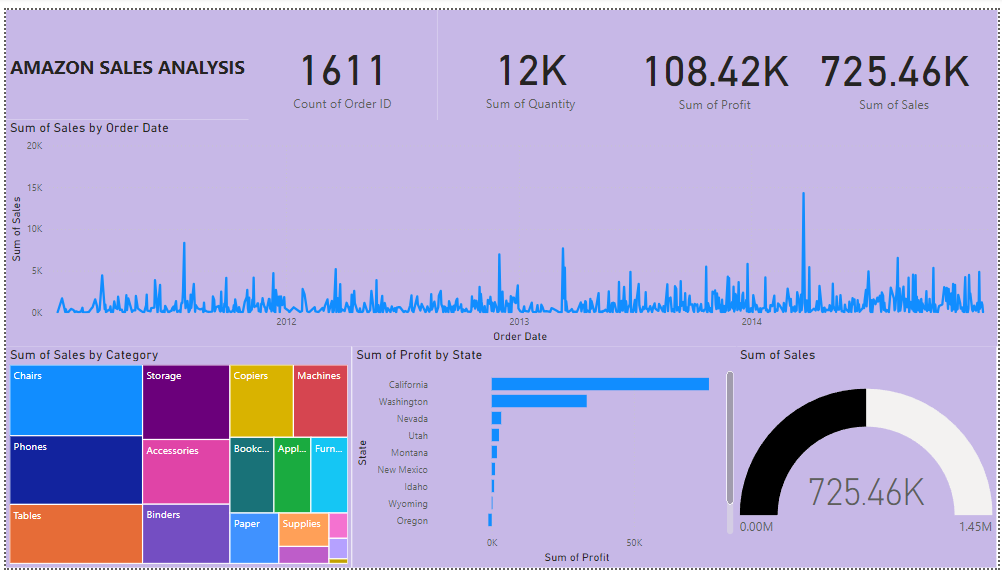

The page's visual inventory and layout, read from the dashboard file:
{"tool":"powerbi","page":{"name":"Page 1","canvas":[1280,720],"ordinal":0},"visuals":[{"type":"card","fields":{"Values":["Sum(Walmart.Sales)"]},"box":[1013.3,0,266.7,165],"z":0},{"type":"card","fields":{"Values":["Sum(Walmart.Profit)"]},"box":[781.7,0,265,165],"z":1000},{"type":"card","fields":{"Values":["Sum(Walmart.Quantity)"]},"box":[555.7,0,241.5,164.7],"z":2000},{"type":"card","fields":{"Values":["Count(Walmart.Order ID)"]},"box":[312.9,0,242.9,164.7],"z":3000},{"type":"lineChart","fields":{"Category":["Walmart.Order Date"],"Y":["Sum(Walmart.Sales)"]},"box":[0,141.3,1278.9,292.3],"z":4000},{"type":"treemap","fields":{"Group":["Walmart.Category"],"Values":["Sum(Walmart.Sales)"]},"box":[0,433.6,446,285.4],"z":5000},{"type":"clusteredBarChart","fields":{"Category":["Walmart.State"],"Y":["Sum(Walmart.Profit)"]},"box":[446,433.6,496.7,285.4],"z":6000},{"type":"gauge","fields":{"Y":["Sum(Walmart.Sales)"]},"box":[942.7,433.6,336.2,285.4],"z":7000},{"type":"textbox","box":[0,0,333.4,141.3],"z":8000}]}

Visuals, with their boxes in screenshot pixels (x1, y1, x2, y2), scaled from the page's 1280x720 canvas onto the 1002x576 screenshot:
card - Sum(Walmart.Sales): crop(793, 0, 1001, 132)
card - Sum(Walmart.Profit): crop(612, 0, 819, 132)
card - Sum(Walmart.Quantity): crop(435, 0, 624, 132)
card - Count(Walmart.Order ID): crop(245, 0, 435, 132)
lineChart - Walmart.Order Date x Sum(Walmart.Sales): crop(0, 113, 1001, 347)
treemap - Walmart.Category x Sum(Walmart.Sales): crop(0, 347, 349, 575)
clusteredBarChart - Walmart.State x Sum(Walmart.Profit): crop(349, 347, 738, 575)
gauge - Sum(Walmart.Sales): crop(738, 347, 1001, 575)
textbox: crop(0, 0, 261, 113)
